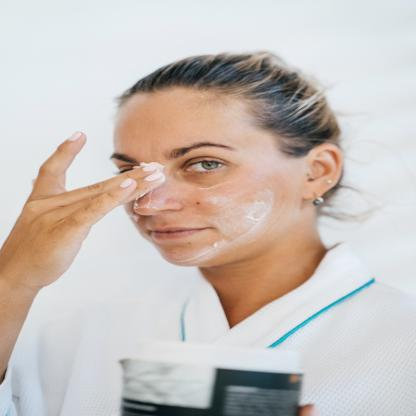Eye: (180, 154, 233, 178)
Mouth: (144, 222, 215, 244)
Nose: (132, 182, 191, 218)
